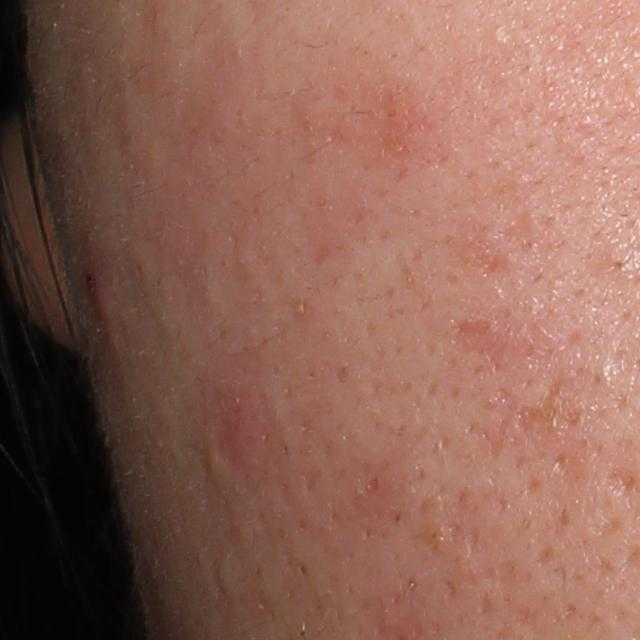atrophic_scar: (512, 376, 584, 449), (449, 318, 506, 380), (176, 430, 215, 489), (604, 467, 638, 500)
comedo: (483, 22, 510, 45)
papule: (75, 260, 113, 323)
